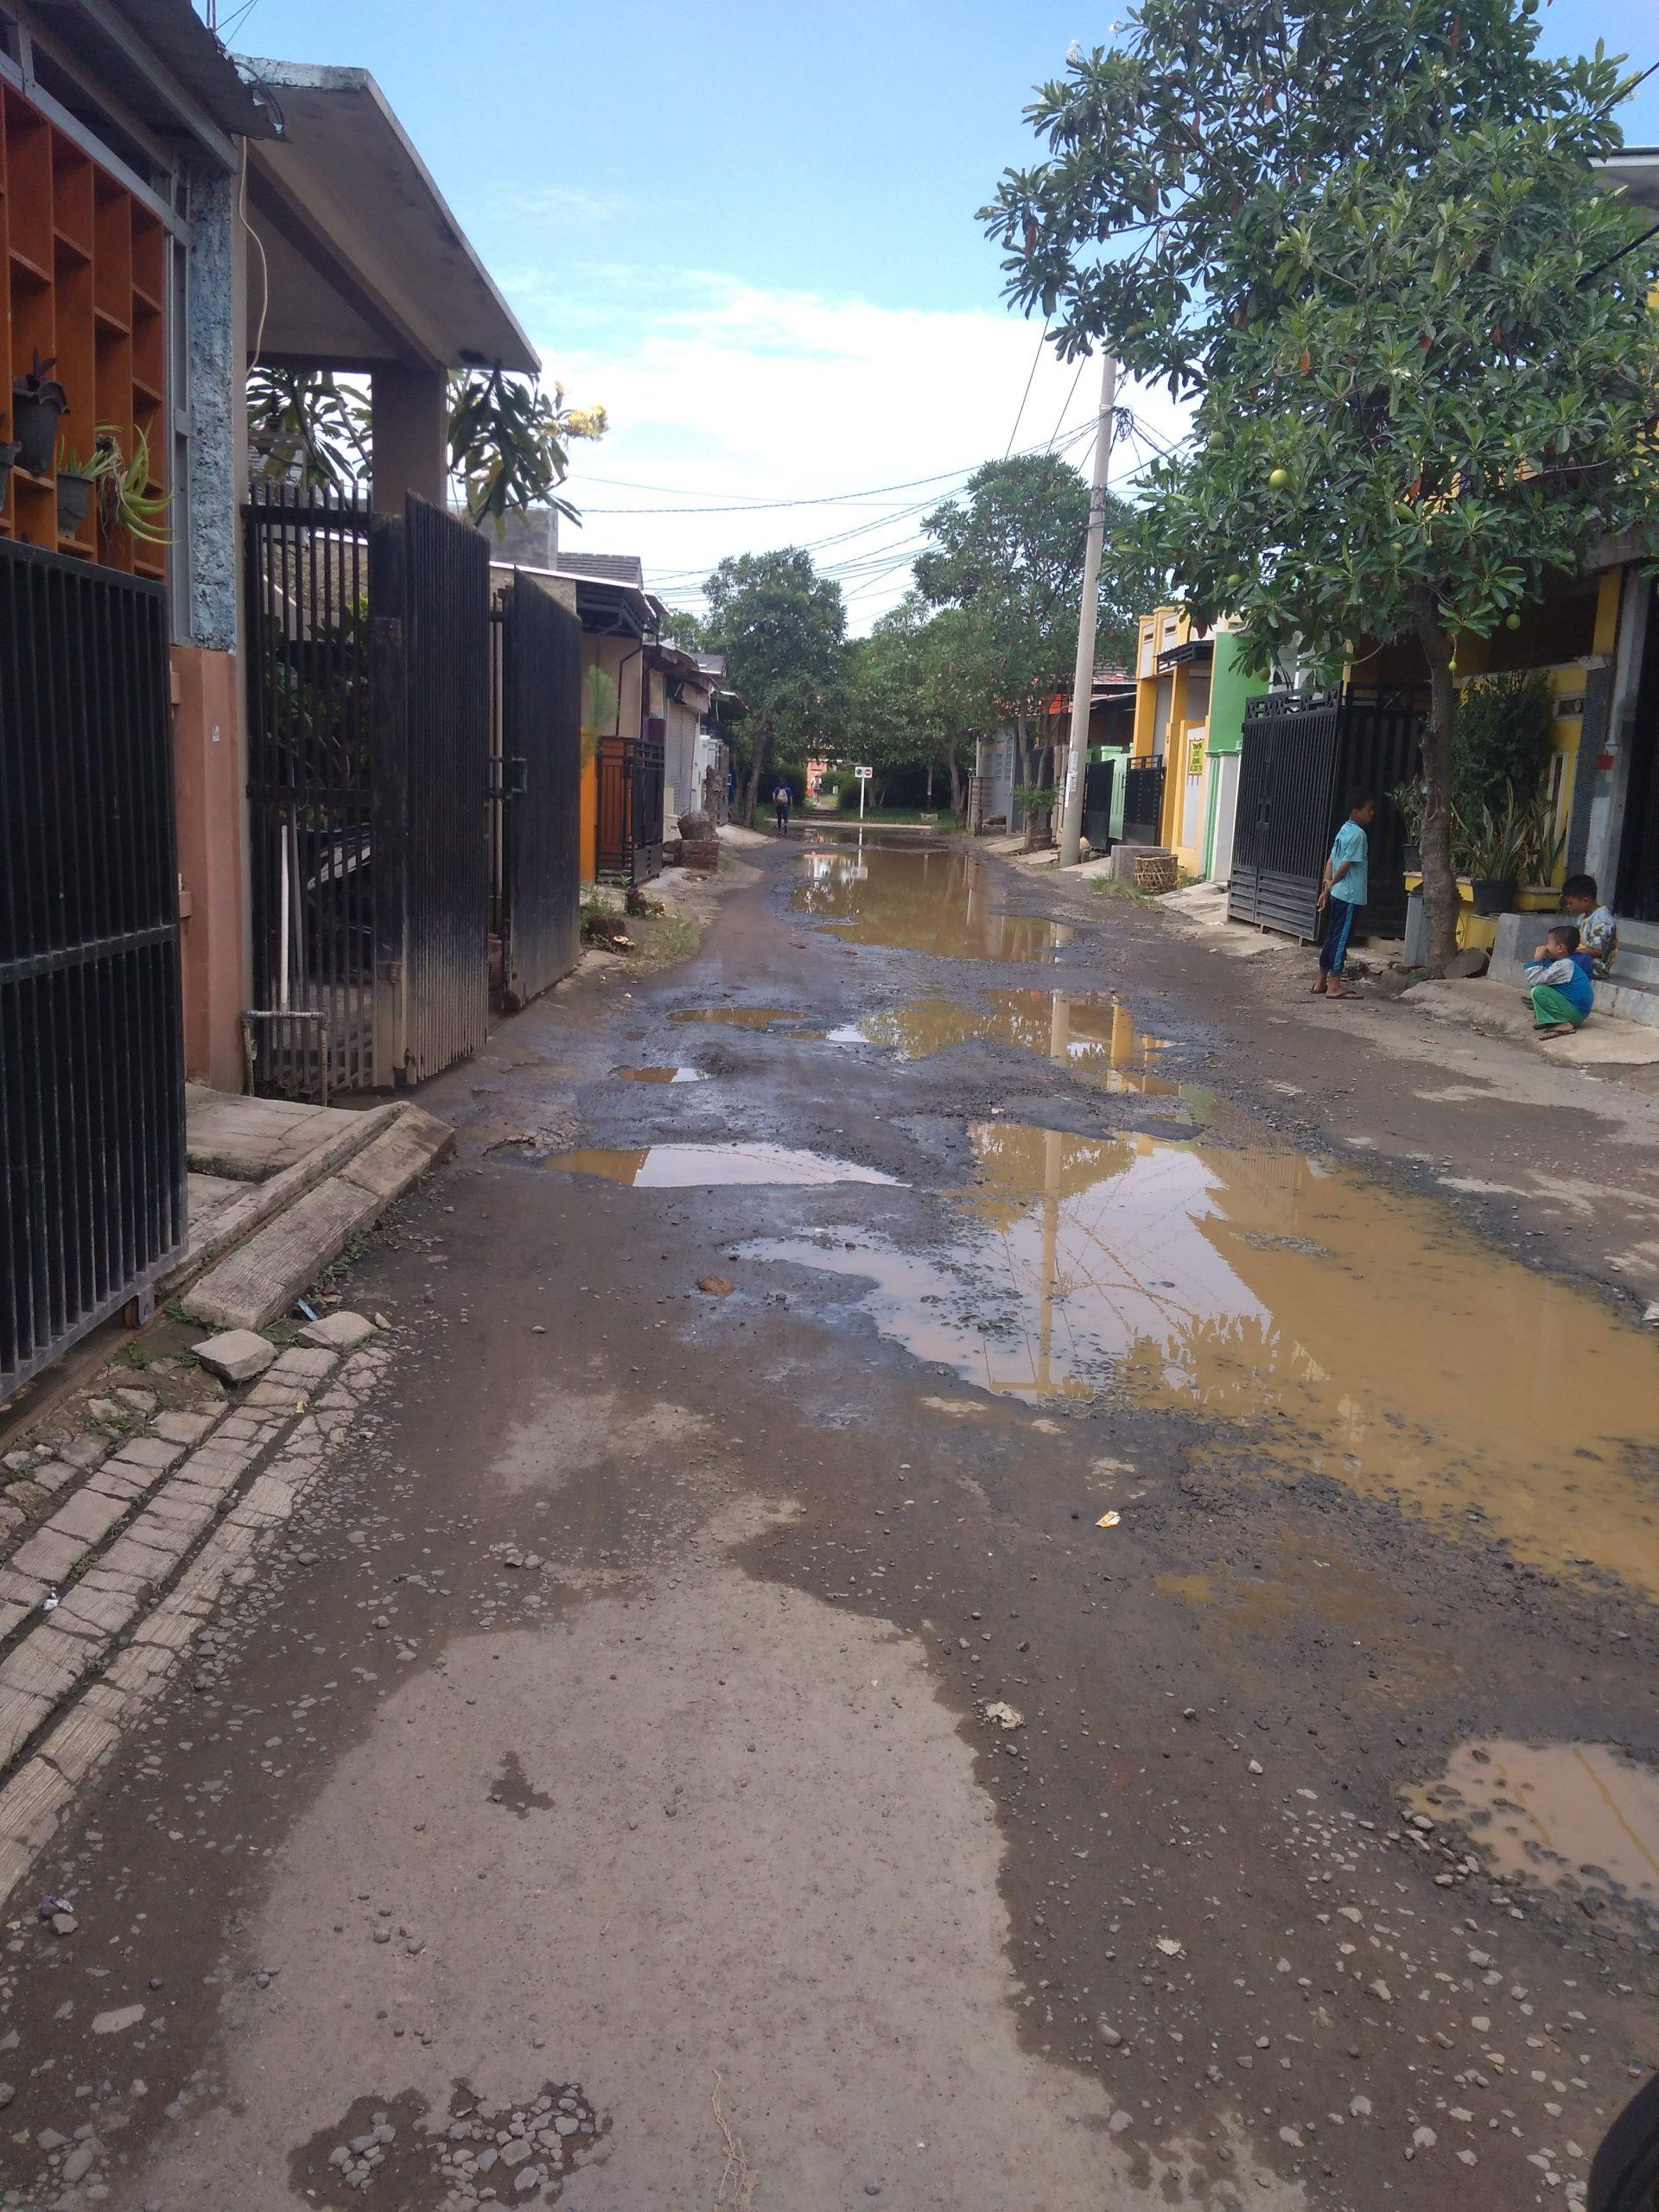Pothole: (592, 982, 1218, 1134), (505, 1113, 884, 1216)
